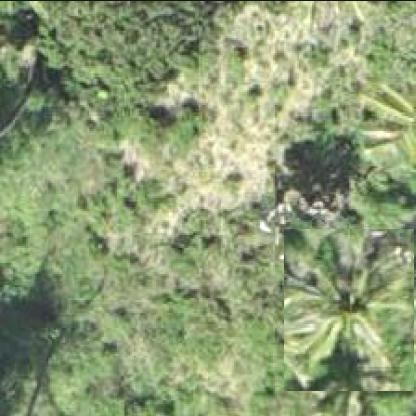coconut tree: (284, 227, 415, 390)
